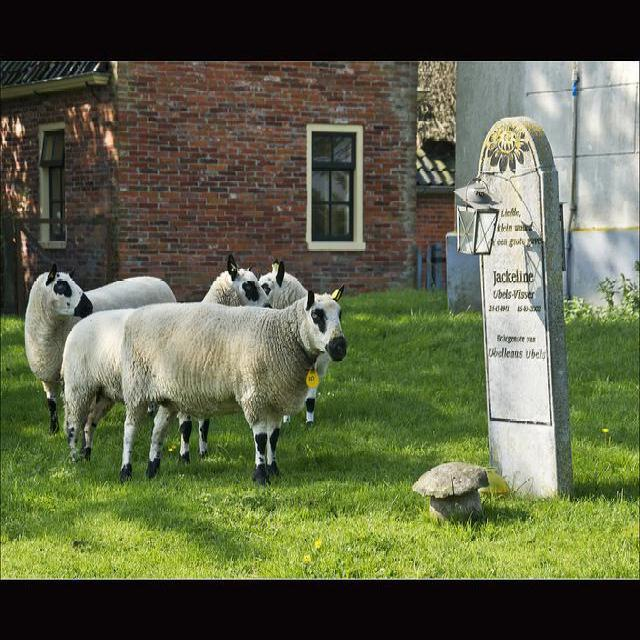Sheep: (120, 284, 347, 486), (63, 252, 275, 462), (23, 230, 179, 434), (262, 264, 316, 422)
